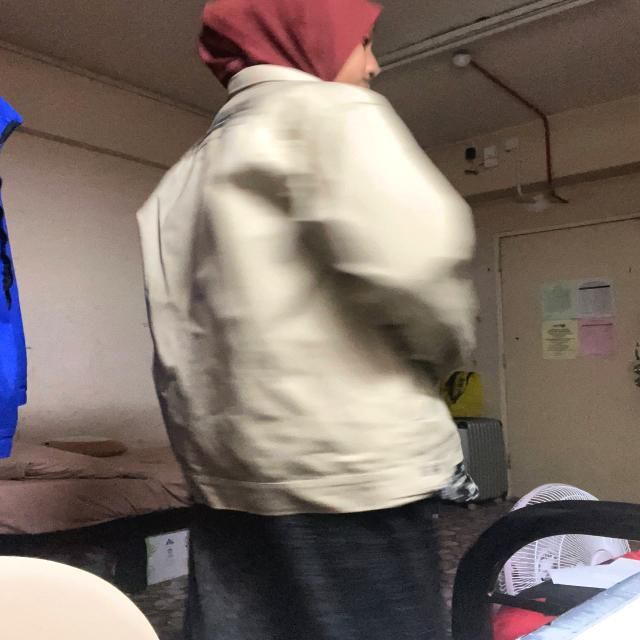person_with_labcoat: (137, 0, 477, 640), (137, 0, 476, 640)
